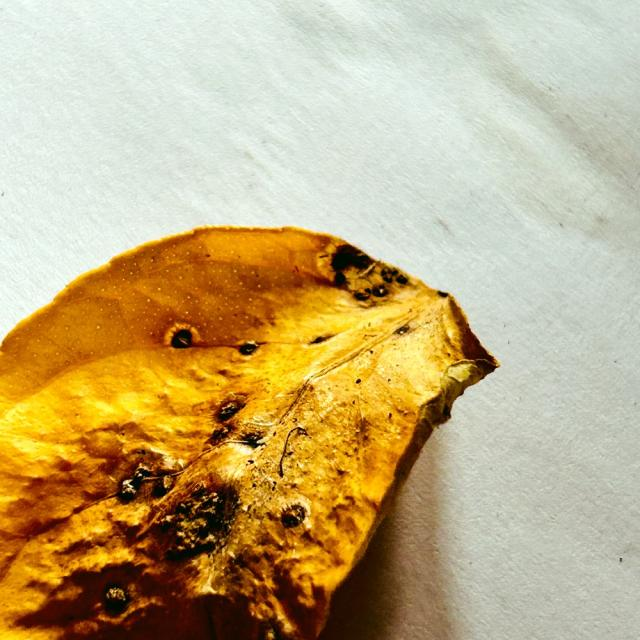DryLeaf_Lemon: (0, 227, 497, 639)
